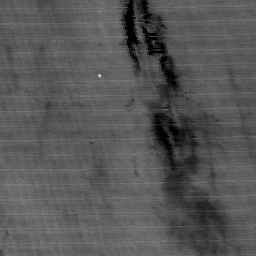Target: (96, 73, 102, 78)
